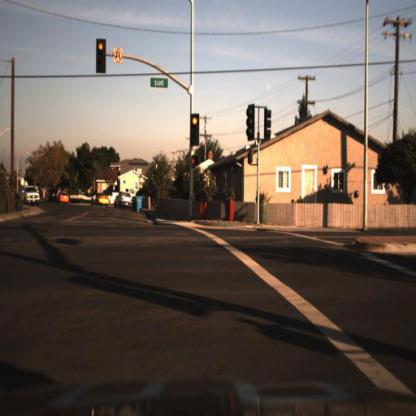car: (22, 185, 43, 210), (115, 190, 137, 213), (89, 191, 110, 212), (91, 191, 111, 212), (114, 189, 134, 210), (45, 186, 60, 207), (57, 191, 70, 208), (57, 191, 70, 206)
trafficLight-Red: (95, 36, 107, 76), (190, 112, 200, 148)
